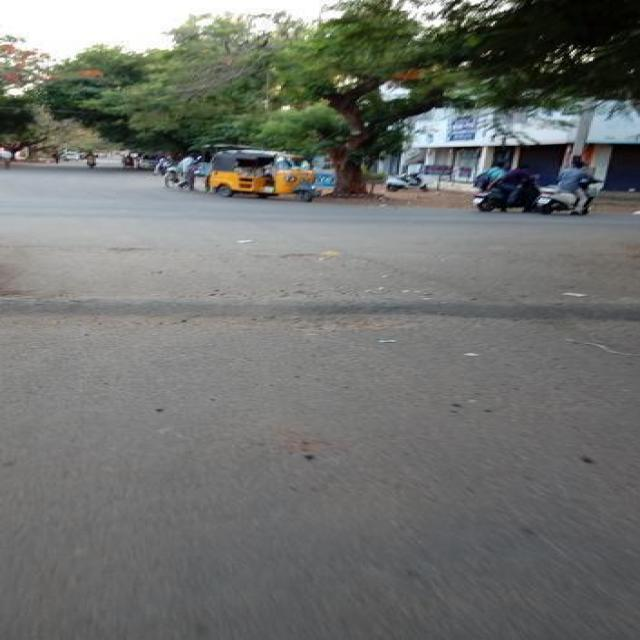NonMarked Bump: (24, 278, 638, 327)
